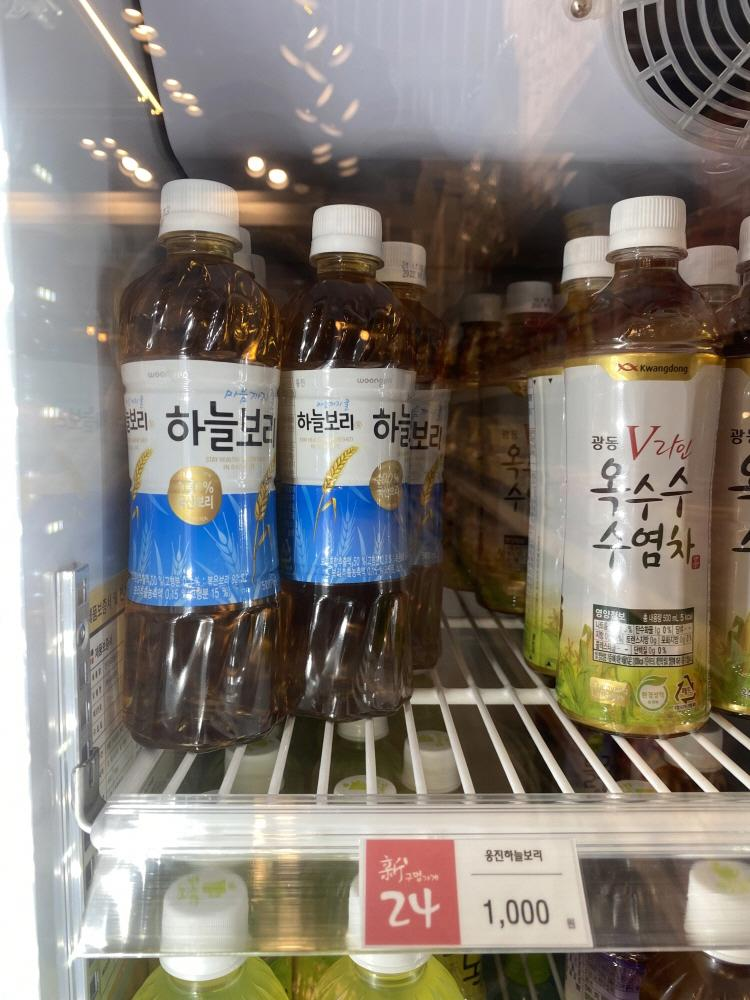haneulbori: (111, 160, 297, 763)
oksususuyeomcha: (563, 193, 731, 747)
